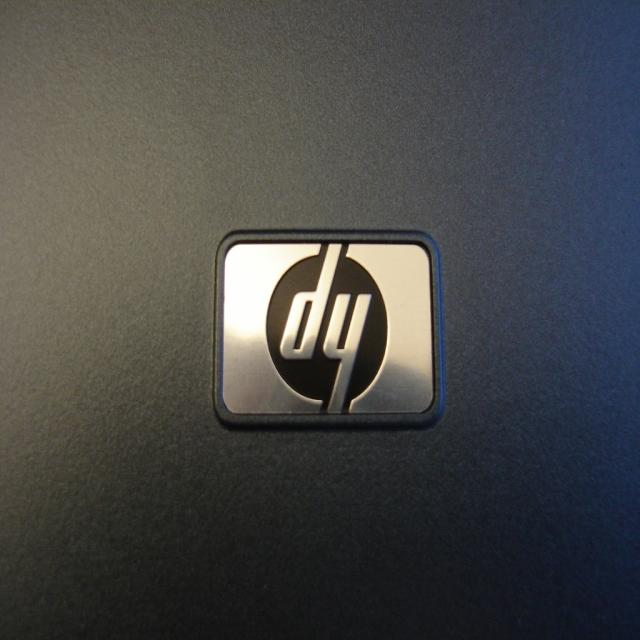HP: (222, 242, 446, 423)
